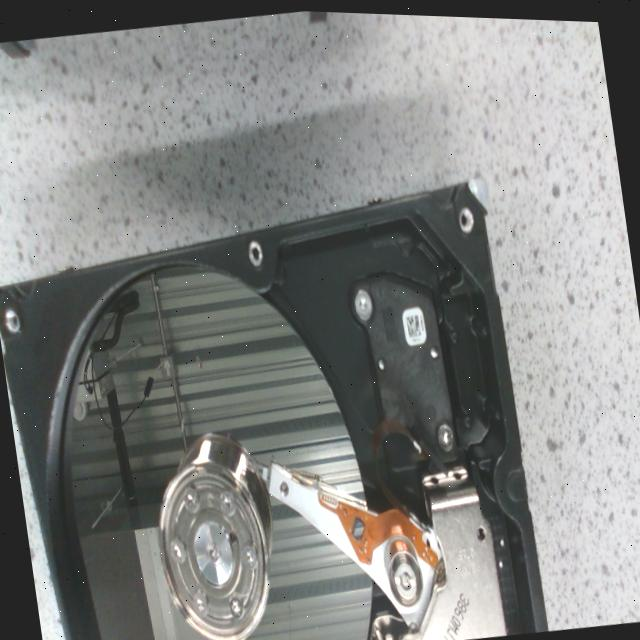actuator arm: (259, 460, 445, 626)
actuator axis: (388, 546, 421, 603)
case: (0, 178, 547, 640)
magnet: (412, 500, 506, 640)
pcb connector: (363, 272, 455, 458)
platter: (59, 259, 371, 640)
platter holder: (158, 432, 271, 640)
screw: (168, 535, 187, 567), (354, 285, 372, 317), (193, 586, 208, 617), (437, 419, 453, 447), (219, 487, 234, 515), (227, 590, 242, 617), (185, 486, 199, 511), (244, 539, 256, 568)
